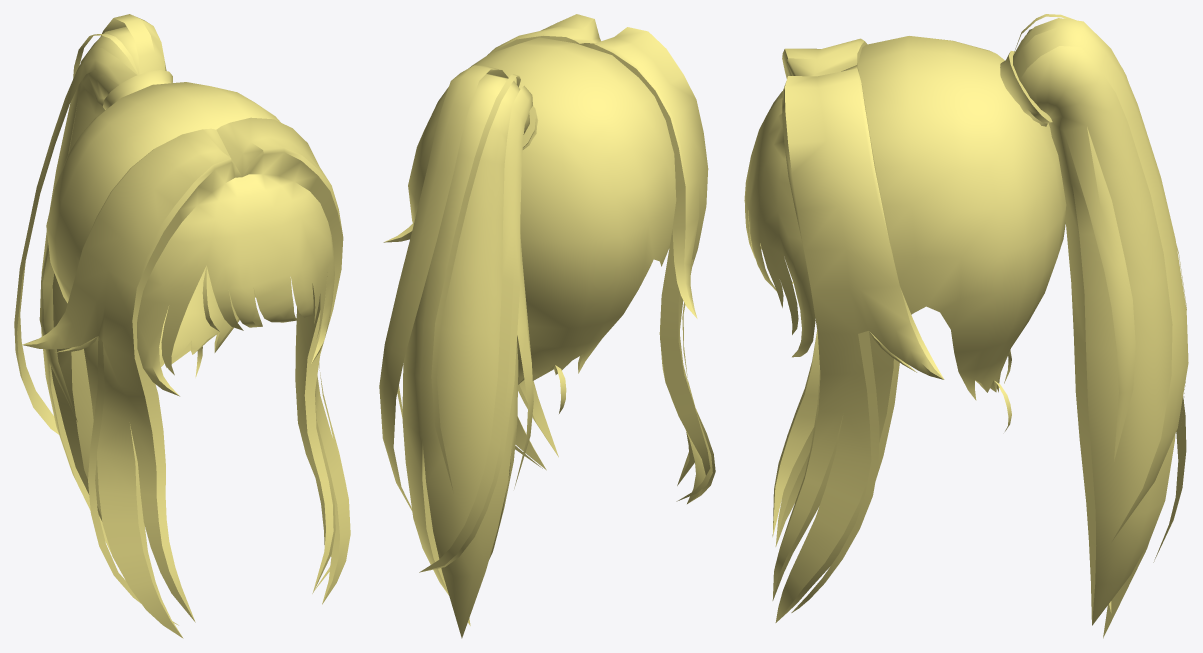
Rendered from hair3.glb.
3 renders of one model, left to right at view 1: azimuth 30°, elevation 25°; view 2: azimuth 150°, elevation 25°; view 3: azimuth 270°, elevation 25°, orthographic. The views are drawn at different scales.
Visible parts, largest first — view 1: Object_2; view 2: Object_2; view 3: Object_2.
Part boxes in pixels (x1,y1,x2,y2): Object_2: (14, 14, 350, 638); Object_2: (379, 14, 715, 638); Object_2: (744, 14, 1188, 638).
Bounding box in the file's own units: 2.3 × 3.89 × 2.54.
